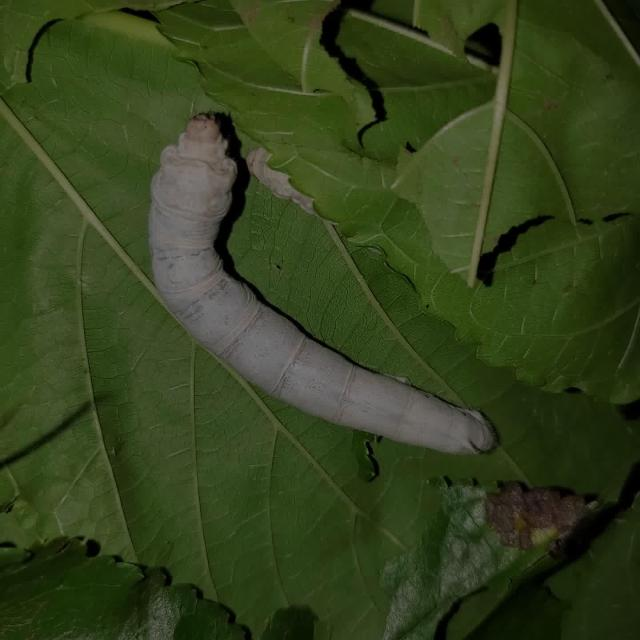Healthy: (104, 80, 512, 490)
